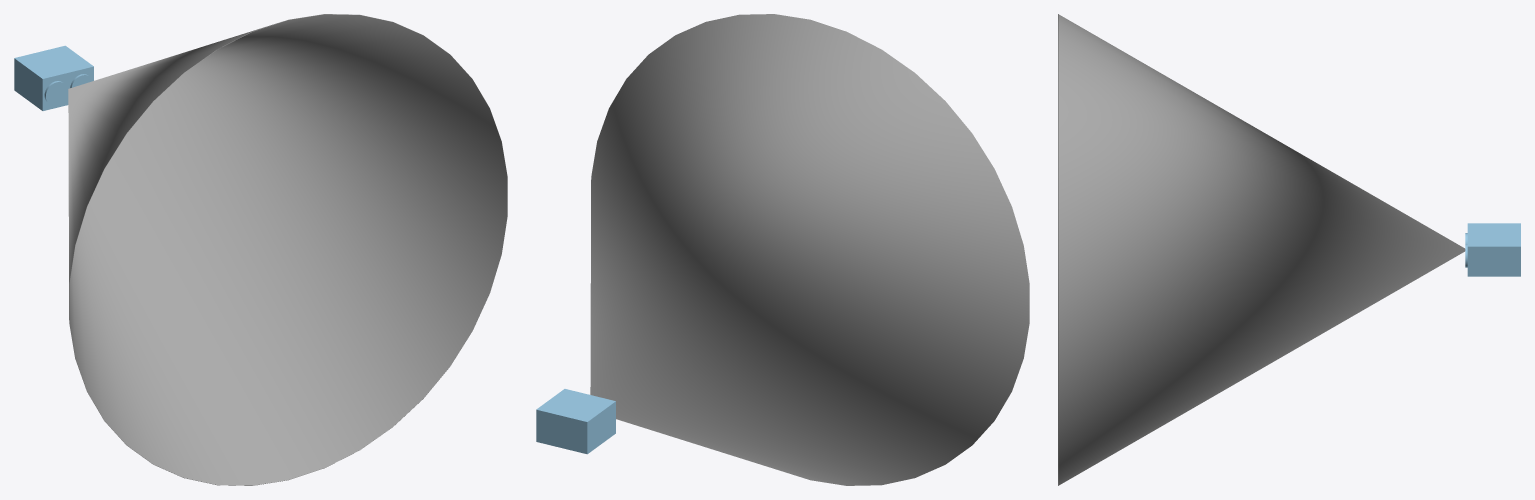
The model's file is SubWoof.dae.
The picture shows the model from 3 angles, left to right: view 1: azimuth 30°, elevation 25°; view 2: azimuth 150°, elevation 25°; view 3: azimuth 270°, elevation 25°; orthographic projection. The views are drawn at different scales.
Parts seen in each view (by area): view 1: 681bb5eb7999ff26d0882542 (×2); view 2: 681bb5eb7999ff26d0882542 (×2); view 3: 681bb5eb7999ff26d0882542 (×2).
Part boxes in pixels (x1,y1,x2,y2): 681bb5eb7999ff26d0882542 (×2): (14,14,507,485); 681bb5eb7999ff26d0882542 (×2): (536,14,1029,485); 681bb5eb7999ff26d0882542 (×2): (1058,14,1520,485).
Size of the model in its own units: 5.06 by 4.97 by 5.08.
